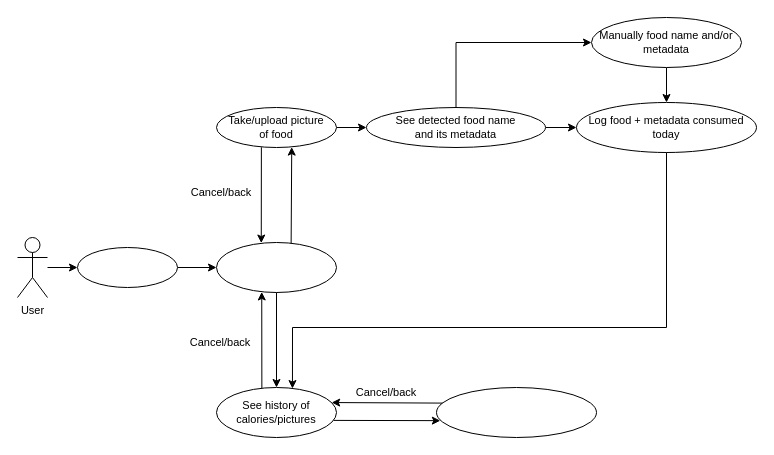
Image size: 774x455. Some labels were removed from this diagram. The centre of each missing label's shape, as x and y in pixels:
Access the main page/dashboard: the point at 276,267
Launch the app: the point at 127,267
Modify logged entries: the point at 516,412
